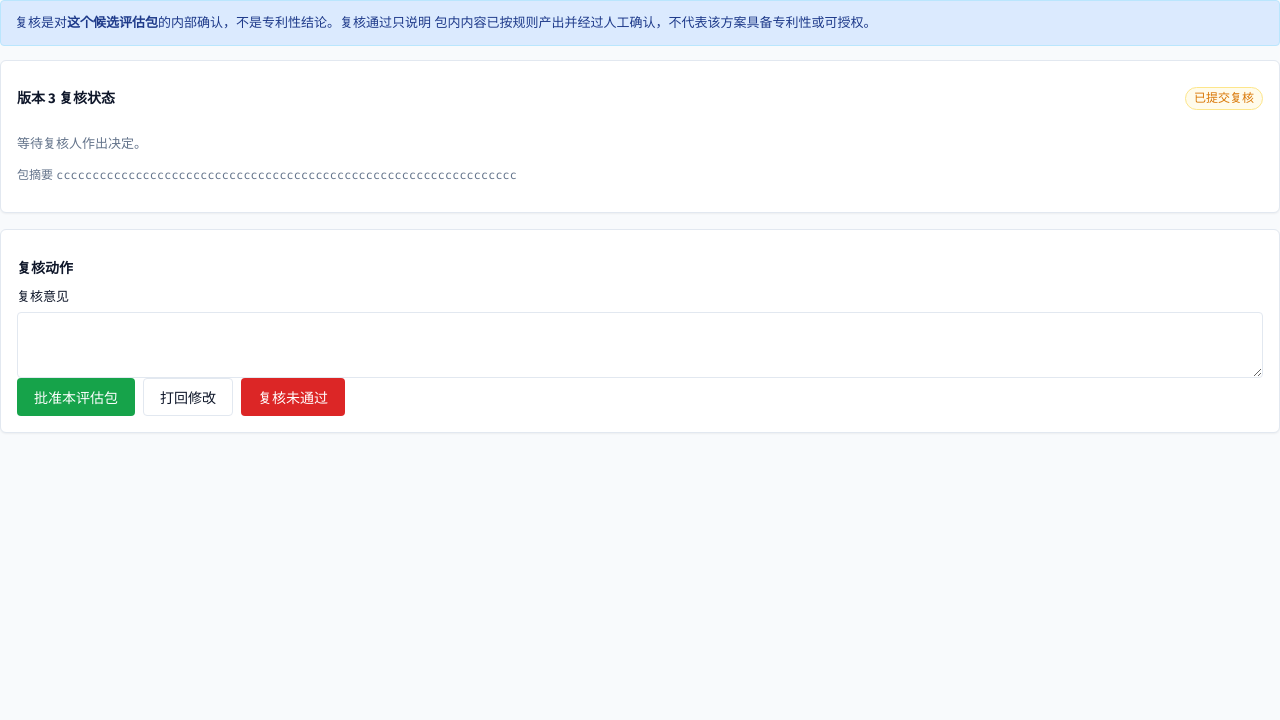
Test case: Pre-assessment review panel › explains a frozen refusal instead of showing a generic failure
The width and height of the screenshot is (1280, 720).
What coordinates should you click on to do the following:
click the button "打回修改"
I would click on:
 (188, 397)
Its box is [143,378,233,416].
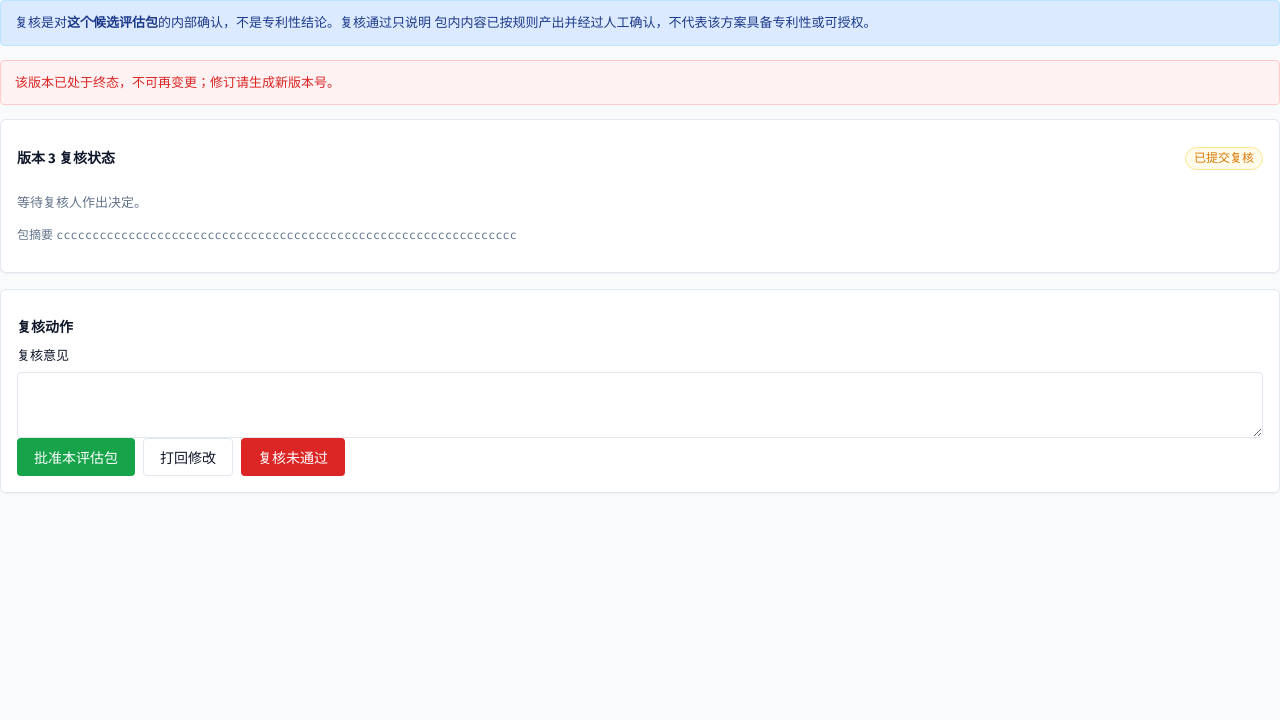
Expected: the text "该版本已处于终态，不可再变更；修订请生成新版本号。" is shown, [15,74,340,90]
